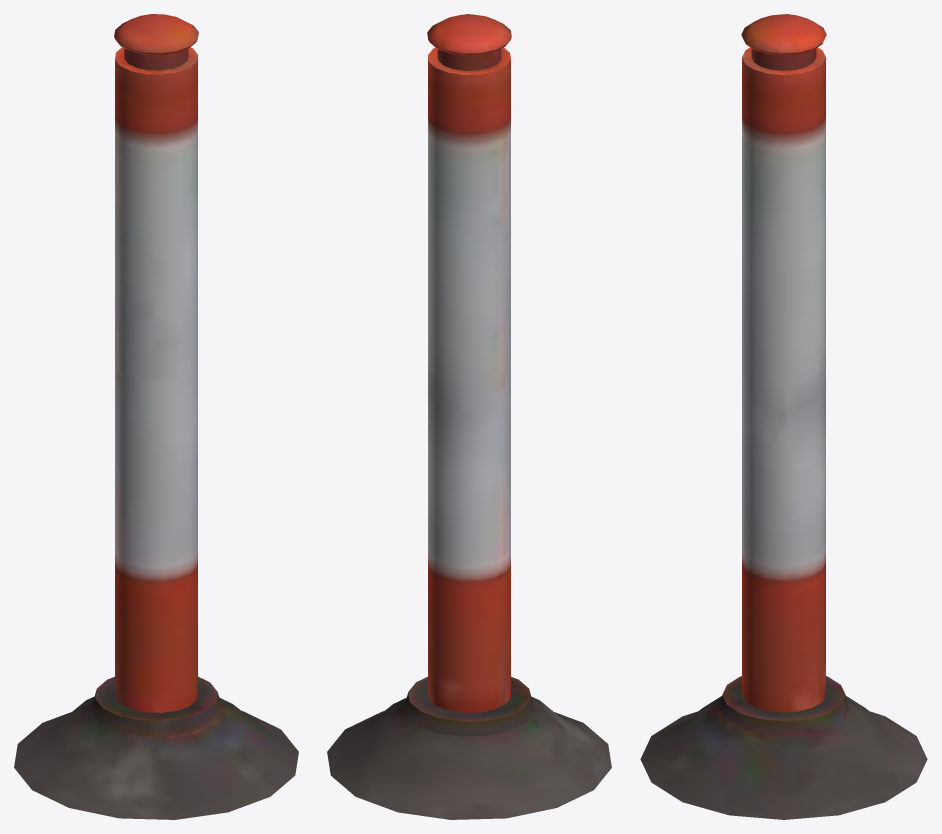
The model's file is SM_Traffic_cone_07_1c9639.glb.
The picture shows the model from 3 angles, left to right: view 1: azimuth 30°, elevation 25°; view 2: azimuth 150°, elevation 25°; view 3: azimuth 270°, elevation 25°; orthographic projection.
Bounding box in the file's own units: 0.3057 × 0.8672 × 0.3057.
Materials: 1 (1 with a texture image).
